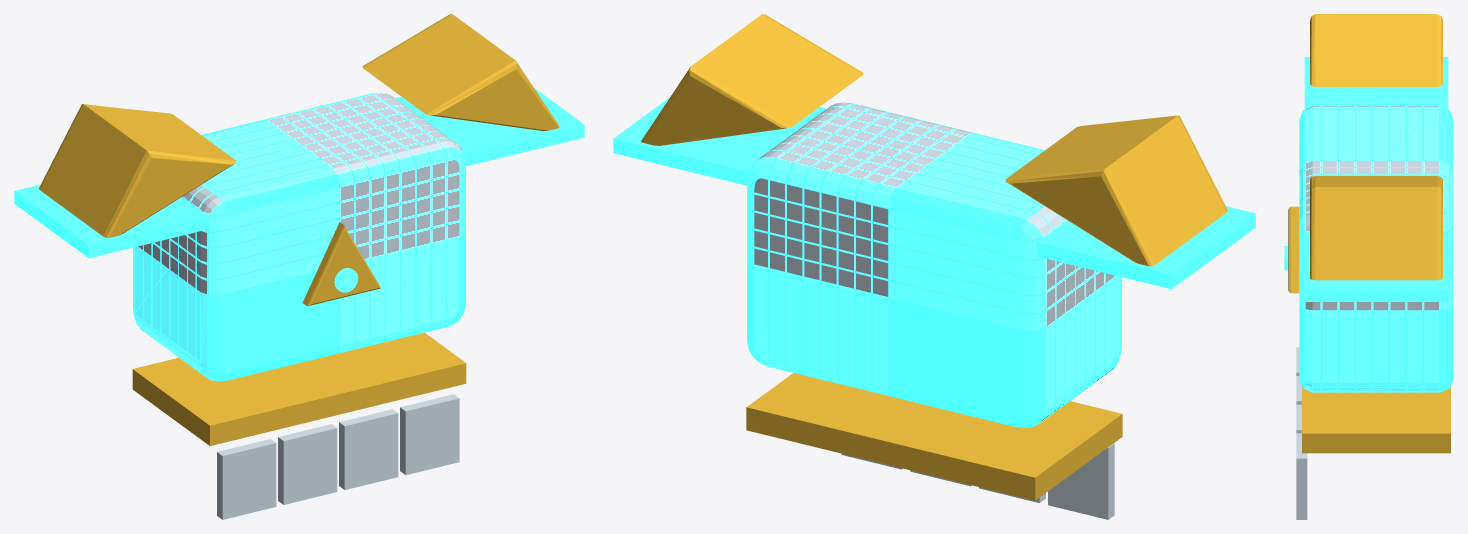
Rendered from eqf_eqsu4.glb.
The picture shows the model from 3 angles, left to right: view 1: azimuth 30°, elevation 25°; view 2: azimuth 150°, elevation 25°; view 3: azimuth 270°, elevation 25°; orthographic projection. The views are drawn at different scales.
Size of the model in its own units: 4.06 by 2.96 by 1.25.
5 materials, 1 textured.
